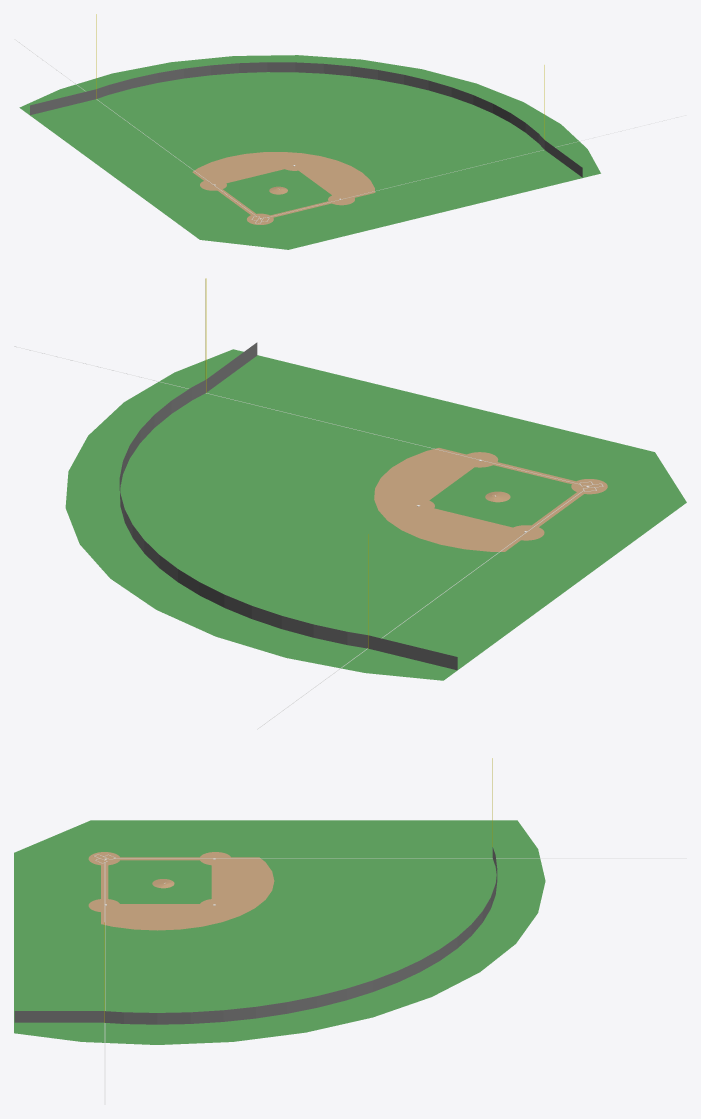
File: field.glb
3 renders of one model, top to bottom at view 1: azimuth 30°, elevation 25°; view 2: azimuth 150°, elevation 25°; view 3: azimuth 270°, elevation 25°, orthographic. The views are drawn at different scales.
Parts seen in each view (by area): view 1: OF_grass, fence, IF_dirt, IF_grass, chalk; view 2: OF_grass, IF_dirt, fence, IF_grass, chalk; view 3: OF_grass, IF_dirt, fence, IF_grass, chalk.
Part boxes in pixels (x1=…): OF_grass: x1=19, y1=55, x2=600, y2=249; fence: x1=30, y1=62, x2=582, y2=177; IF_dirt: x1=192, y1=152, x2=375, y2=224; IF_grass: x1=223, y1=169, x2=331, y2=215; chalk: x1=14, y1=39, x2=686, y2=223; OF_grass: x1=65, y1=349, x2=686, y2=680; IF_dirt: x1=374, y1=448, x2=607, y2=551; fence: x1=119, y1=342, x2=457, y2=670; IF_grass: x1=429, y1=465, x2=576, y2=527; chalk: x1=14, y1=346, x2=603, y2=729; OF_grass: x1=14, y1=820, x2=545, y2=1044; IF_dirt: x1=88, y1=852, x2=274, y2=930; fence: x1=14, y1=847, x2=497, y2=1024; IF_grass: x1=108, y1=860, x2=211, y2=903; chalk: x1=94, y1=854, x2=686, y2=1104.
Size of the model in its own units: 111 by 18.29 by 111.
